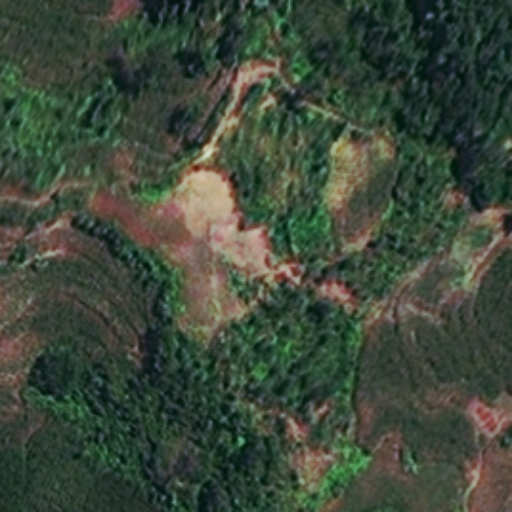landslide: (162, 164, 277, 324)
